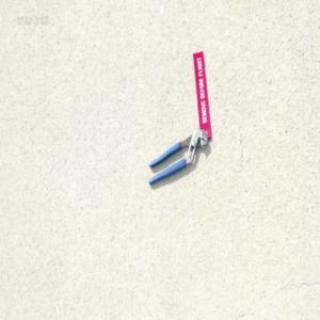LuggageTagtrack_idkeyframe: (192, 51, 212, 138)
Pliertrack_idkeyframe: (147, 127, 207, 185)
